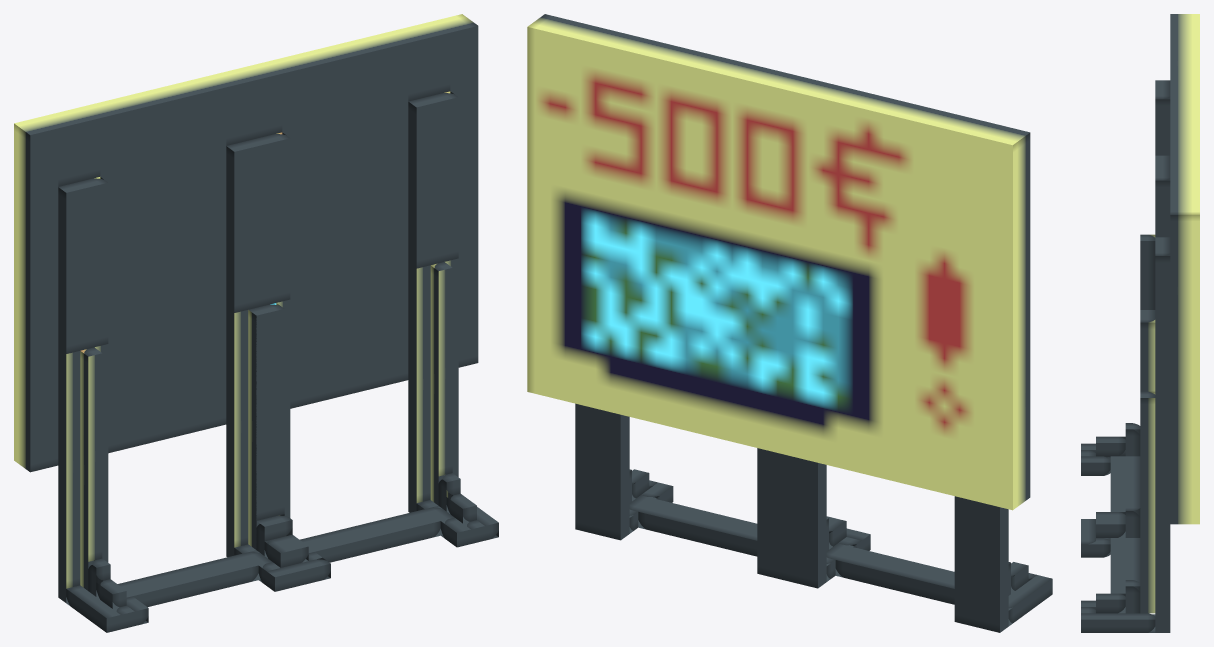
The model's file is reklama_neo_4.dae.
3 renders of one model, left to right at view 1: azimuth 30°, elevation 25°; view 2: azimuth 150°, elevation 25°; view 3: azimuth 270°, elevation 25°, orthographic. The views are drawn at different scales.
Visible parts, largest first — view 1: Content; view 2: Content; view 3: Content.
Boxes of the visible parts, x1,y1,x2,y2 form: Content: (14,14,498,632); Content: (527,14,1052,632); Content: (1081,14,1199,632).
Size of the model in its own units: 32 by 32 by 8.
1 material, 1 textured.
